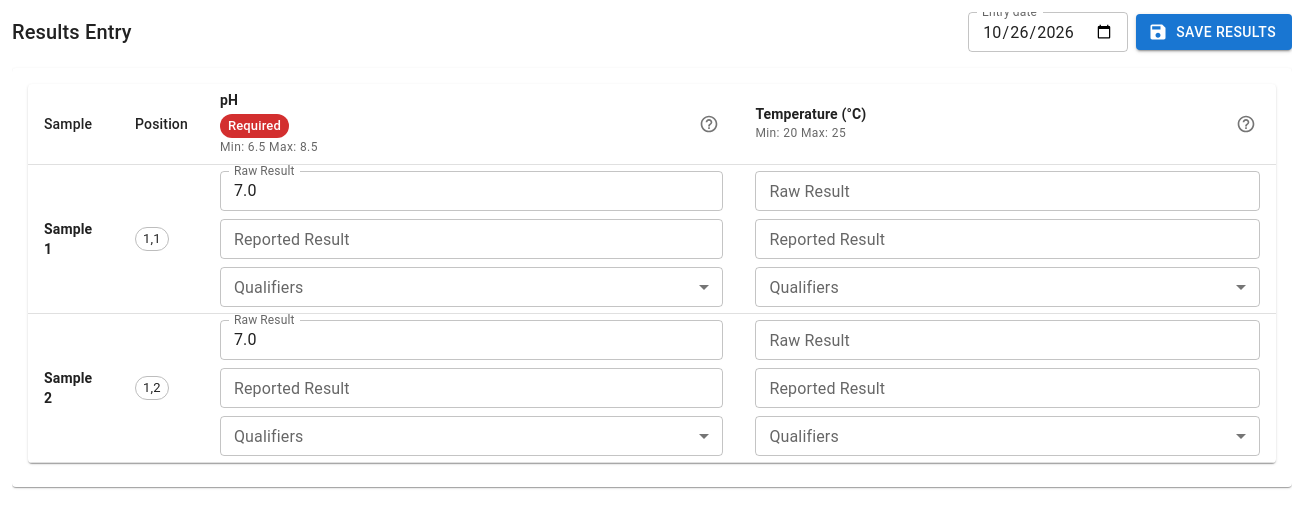
Test: ResultsEntryTable › shows loading state during save
This screenshot has width=1304, height=506.
Click the button "Save Results". click: (1214, 32)
box: [1136, 14, 1292, 50]
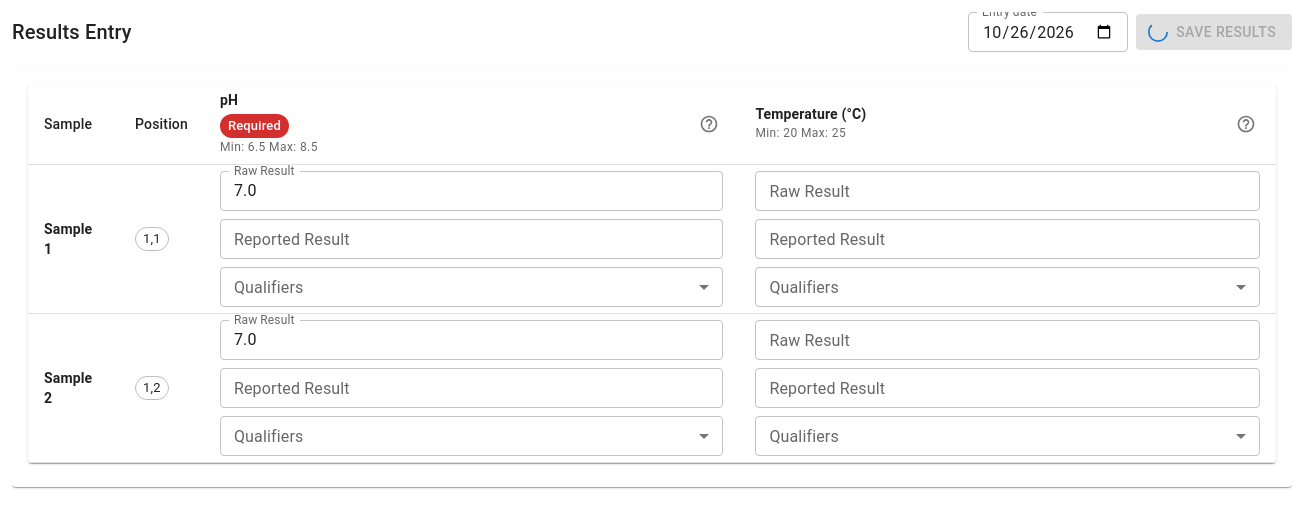
Check: the button "Save Results" is disabled, box [1136, 14, 1292, 50]
